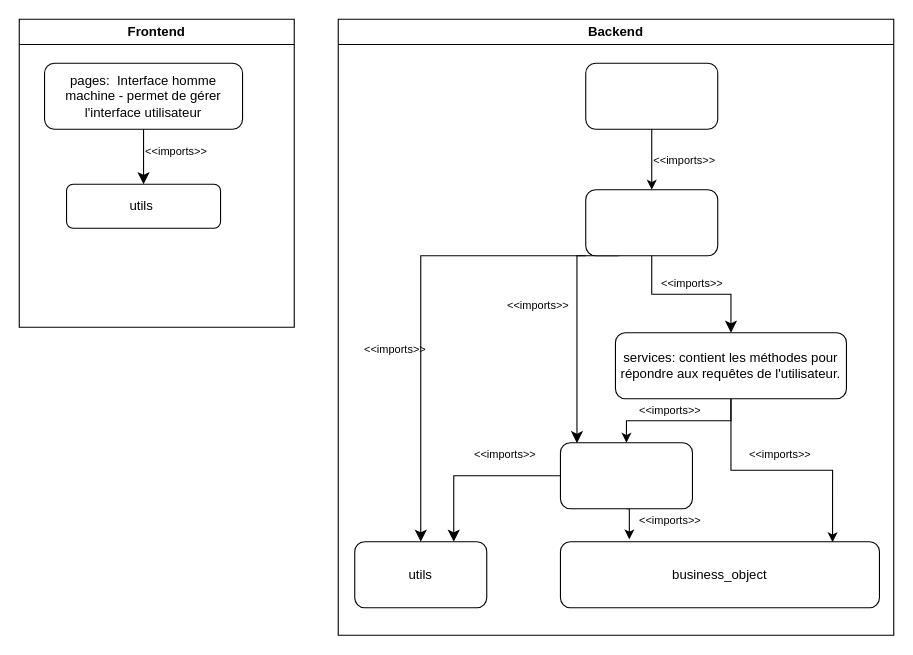
The diagram is 913 pixels wide and 655 high, and some of its shapes have lost their labels. Each missing label, with the centre of its shape:
"controller: classes et leurs attributs" goes at (x=651, y=95).
"DAO: permet de communiquer les bases de données SQL." goes at (x=625, y=475).
"dependencies" goes at (x=651, y=222).
